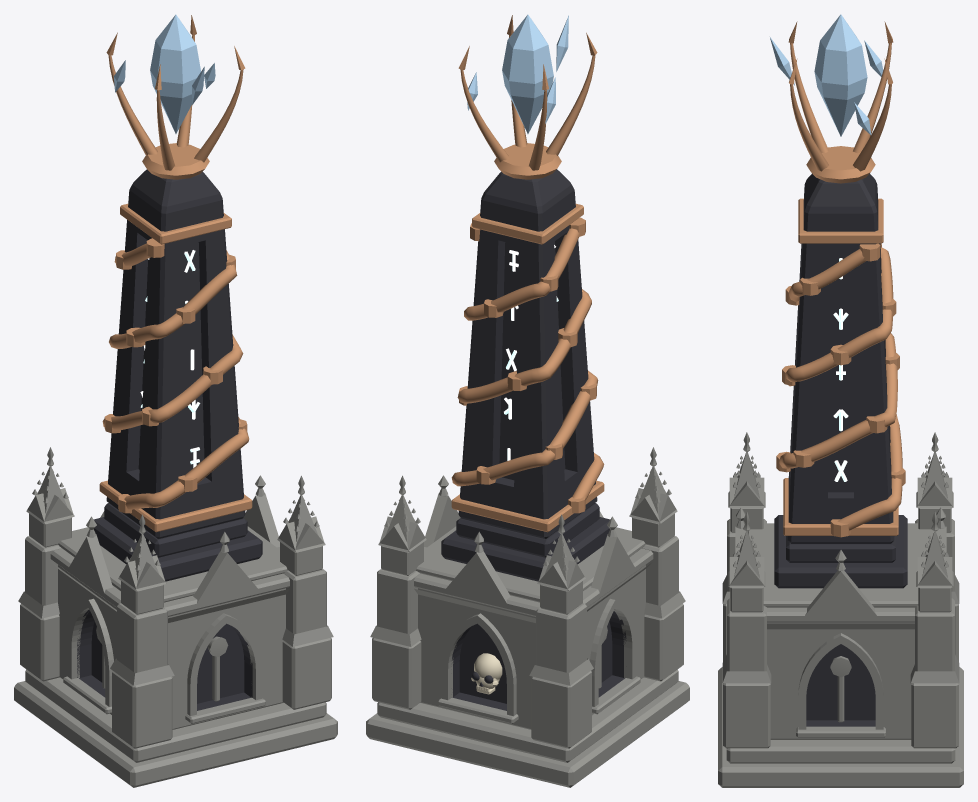
The model's file is tower_storm_2.glb.
3 renders of one model, left to right at view 1: azimuth 30°, elevation 25°; view 2: azimuth 150°, elevation 25°; view 3: azimuth 270°, elevation 25°, orthographic. The views are drawn at different scales.
Parts seen in each view (by area): view 1: tower, crystal; view 2: tower, crystal; view 3: tower, crystal.
Part boxes in pixels (x1,y1,x2,y2): tower: [14, 15, 337, 787]; crystal: [113, 14, 215, 133]; tower: [366, 15, 689, 787]; crystal: [467, 14, 568, 133]; tower: [718, 21, 963, 787]; crystal: [770, 14, 883, 136].
Bounding box in the file's own units: 1.7 × 5.52 × 1.7.
